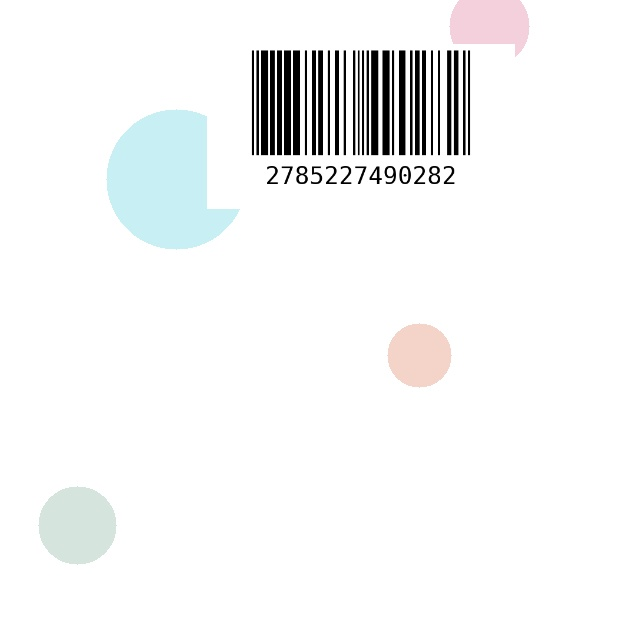barcode: (207, 44, 515, 209)
